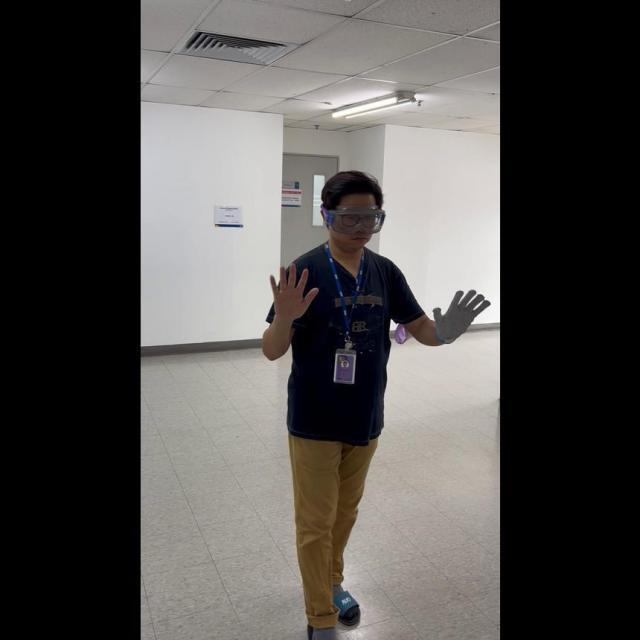bare_hand: (266, 259, 317, 321)
gloved_hand: (428, 283, 488, 343)
